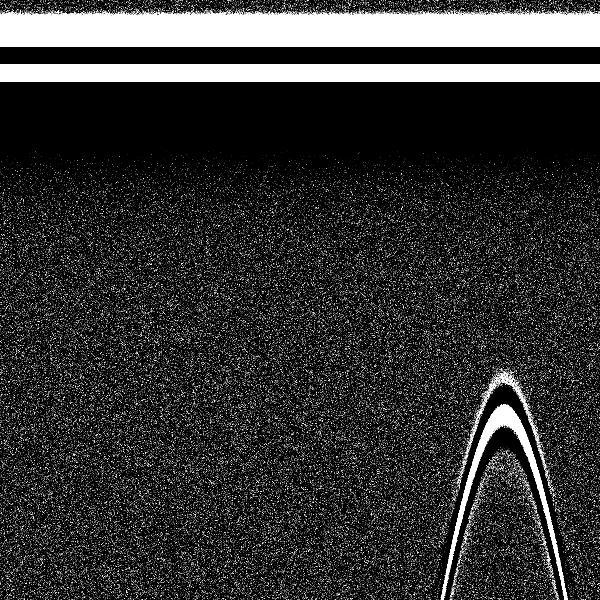pipe: (455, 4, 551, 462)
